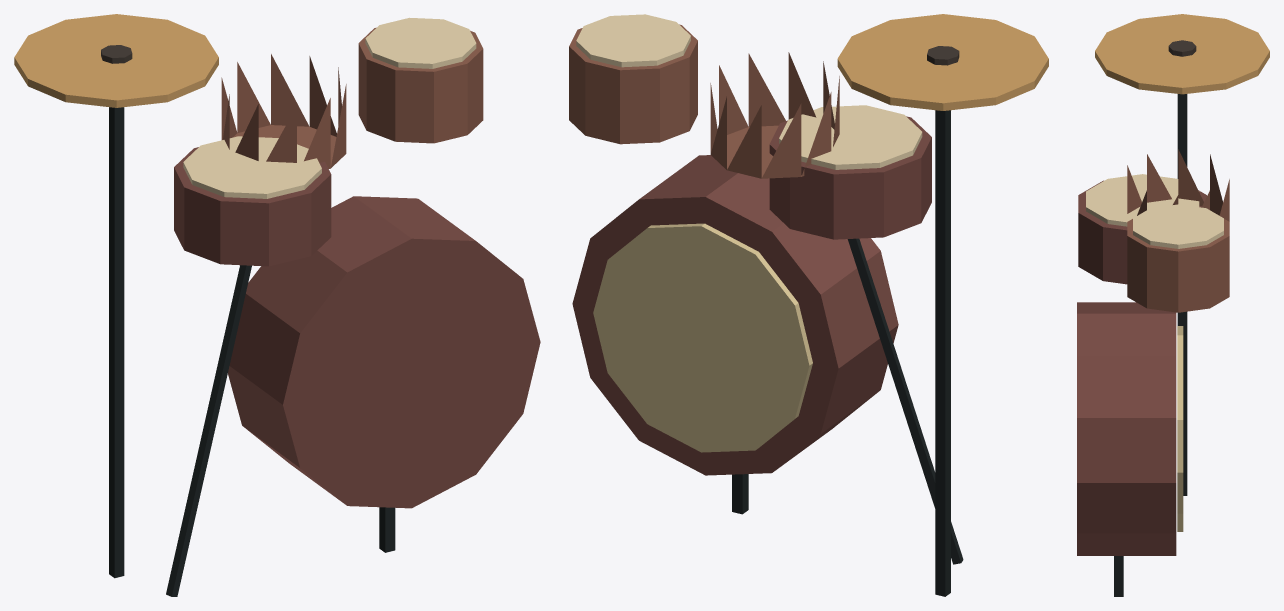
Rendered from lwf_drum_hardware_compact_v1.glb.
The picture shows the model from 3 angles, left to right: view 1: azimuth 30°, elevation 25°; view 2: azimuth 150°, elevation 25°; view 3: azimuth 270°, elevation 25°; orthographic projection. The views are drawn at different scales.
Parts seen in each view (by area): view 1: LWF_Drummer_DrumShells, LWF_Drummer_CymbalsHardware; view 2: LWF_Drummer_DrumShells, LWF_Drummer_CymbalsHardware; view 3: LWF_Drummer_DrumShells, LWF_Drummer_CymbalsHardware.
Part boxes in pixels (x1,y1,x2,y2): LWF_Drummer_DrumShells: [174, 17, 540, 552]; LWF_Drummer_CymbalsHardware: [14, 14, 251, 596]; LWF_Drummer_DrumShells: [569, 14, 931, 514]; LWF_Drummer_CymbalsHardware: [837, 14, 1048, 596]; LWF_Drummer_DrumShells: [1077, 149, 1229, 596]; LWF_Drummer_CymbalsHardware: [1095, 14, 1269, 495].
Bounding box in the file's own units: 1.12 × 1.25 × 0.485.
Materials: 1 (1 with a texture image).
